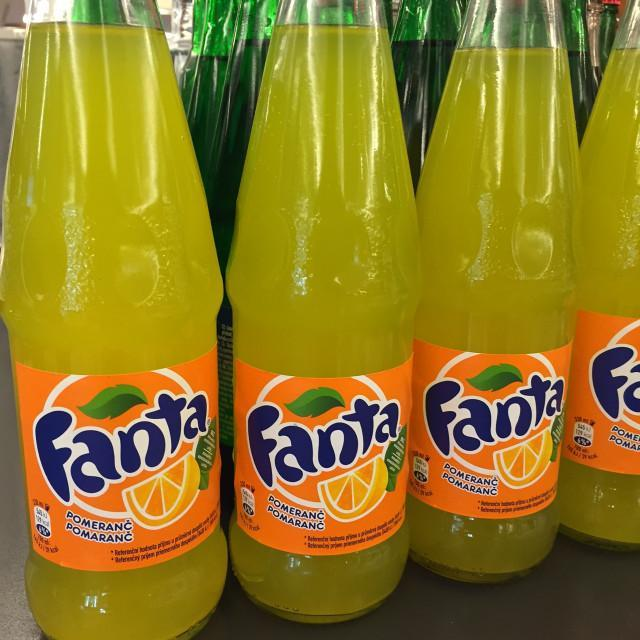Fanta: (5, 3, 230, 638), (215, 8, 414, 628), (415, 4, 585, 589)
